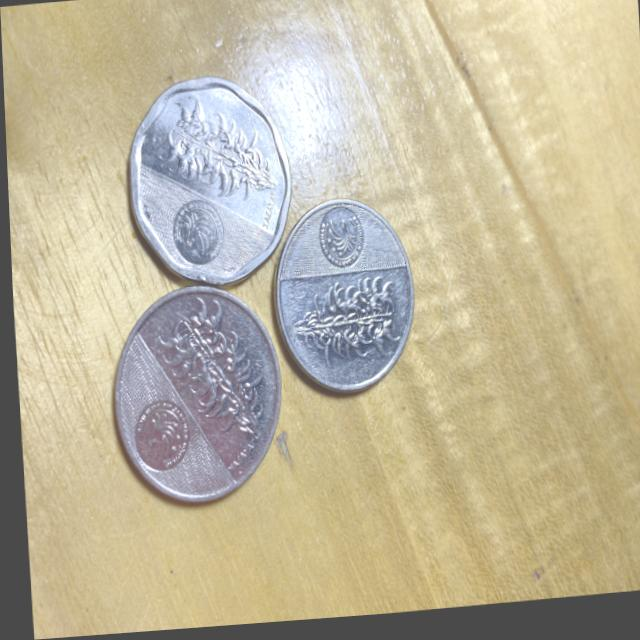5_New_Back: (160, 291, 262, 445), (162, 98, 276, 217), (283, 292, 393, 372)
